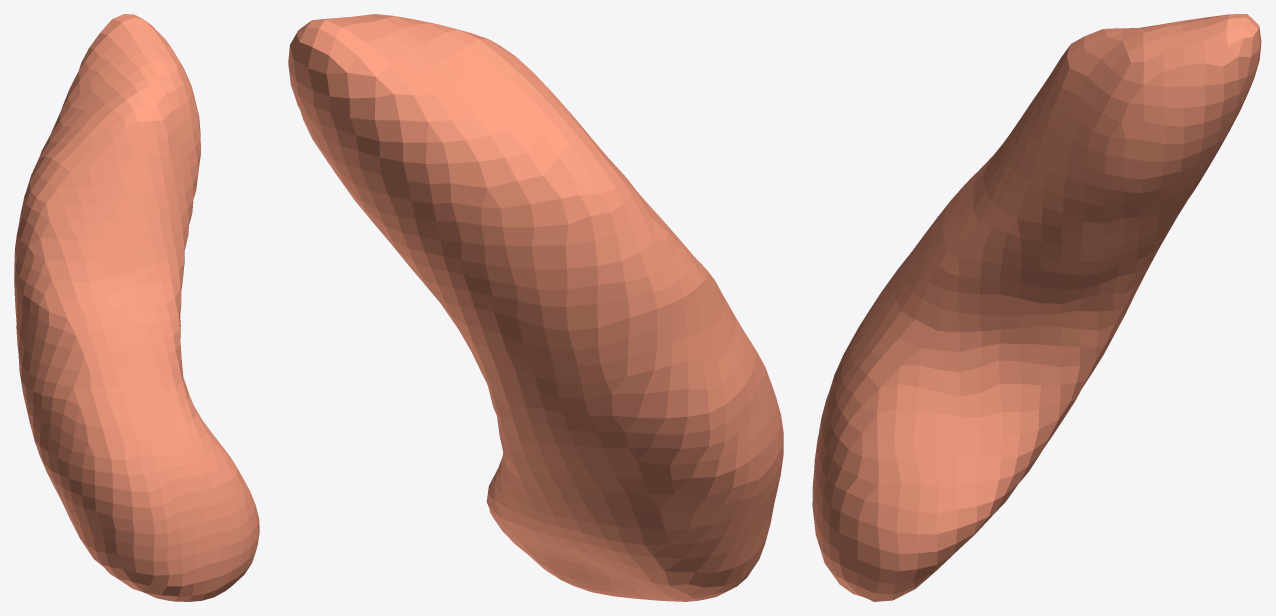
The model's file is hand.obj.
3 views of the same model, side by side, from view 1: azimuth 30°, elevation 25°; view 2: azimuth 150°, elevation 25°; view 3: azimuth 270°, elevation 25° (orthographic). The views are drawn at different scales.
Visible parts, largest first — view 1: SubTool-8-10233600.020; view 2: SubTool-8-10233600.020; view 3: SubTool-8-10233600.020.
Part boxes in pixels (box(x1,y1,x2,y2)): SubTool-8-10233600.020: box(14, 14, 259, 601); SubTool-8-10233600.020: box(288, 14, 783, 601); SubTool-8-10233600.020: box(812, 14, 1261, 601).
Size of the model in its own units: 0.5141 by 1.03 by 0.6856.
